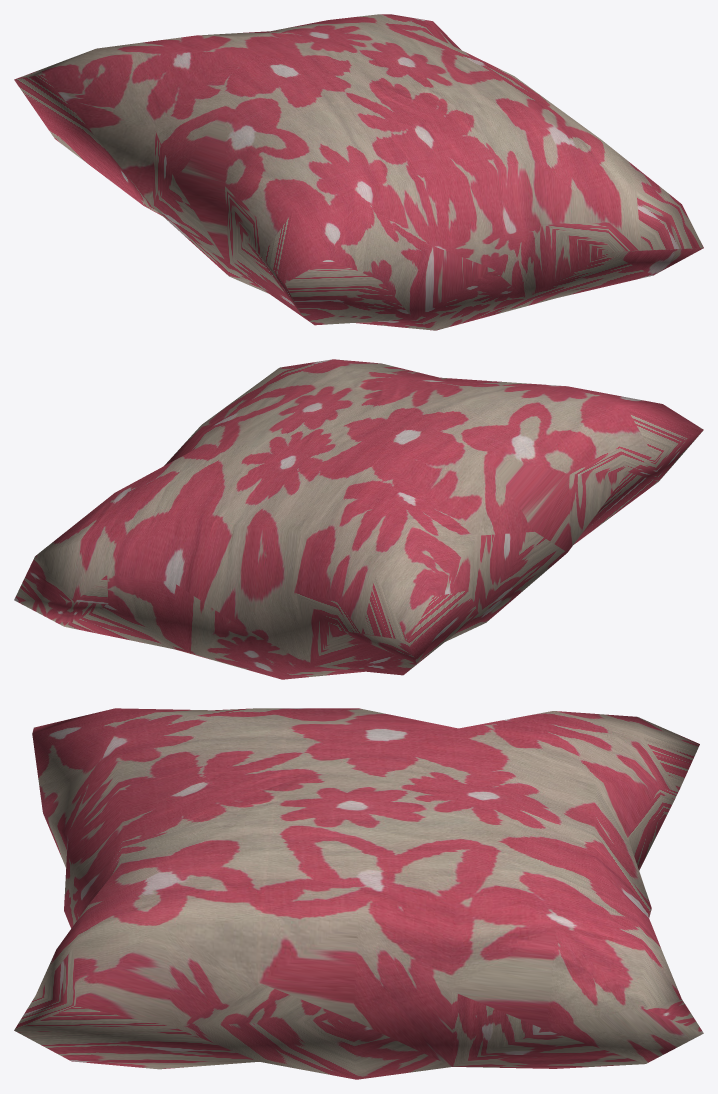
Rendered from pillow.glb.
3 renders of one model, top to bottom at view 1: azimuth 30°, elevation 25°; view 2: azimuth 150°, elevation 25°; view 3: azimuth 270°, elevation 25°, orthographic. The views are drawn at different scales.
Visible parts, largest first — view 1: Pillow; view 2: Pillow; view 3: Pillow.
Boxes of the visible parts, x1=… form: Pillow: x1=14, y1=14, x2=703, y2=330; Pillow: x1=14, y1=359, x2=703, y2=679; Pillow: x1=14, y1=708, x2=703, y2=1079.
Size of the model in its own units: 0.5575 by 0.2913 by 0.6849.
1 material, 1 textured.
